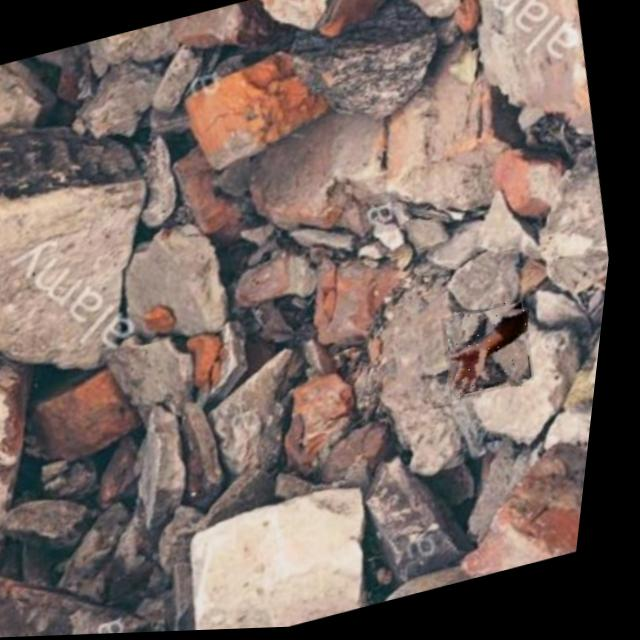Person in Rubble: (441, 299, 551, 405)
